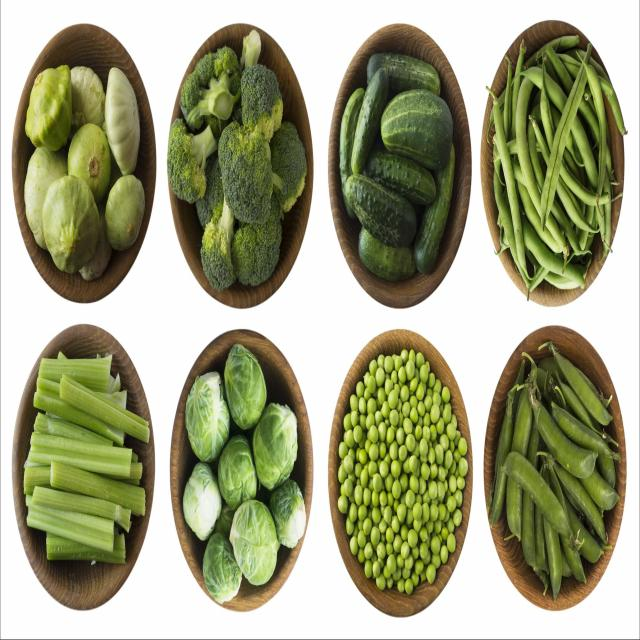celery: (18, 334, 154, 594)
